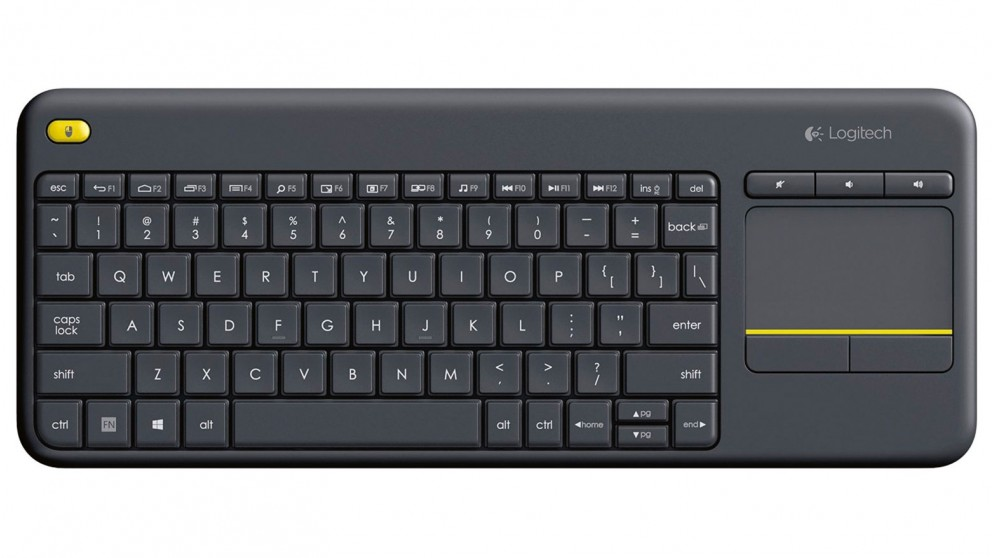logitech-keyboard-k400: (15, 88, 977, 474)
